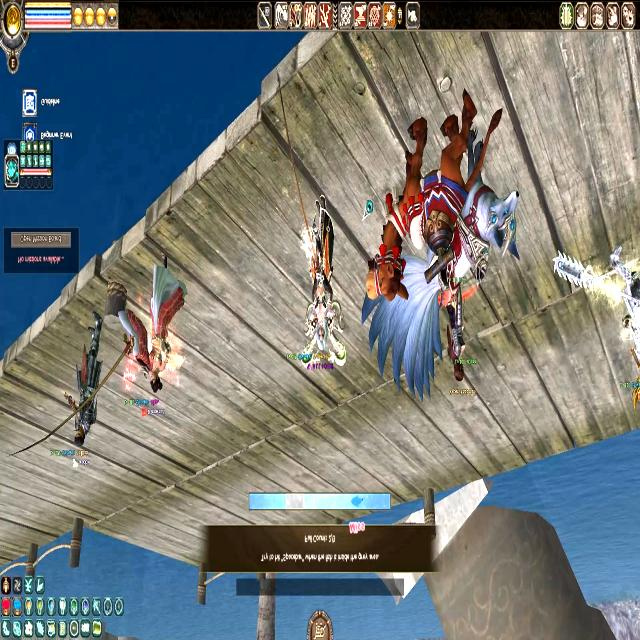fishes: (351, 495, 362, 509)
